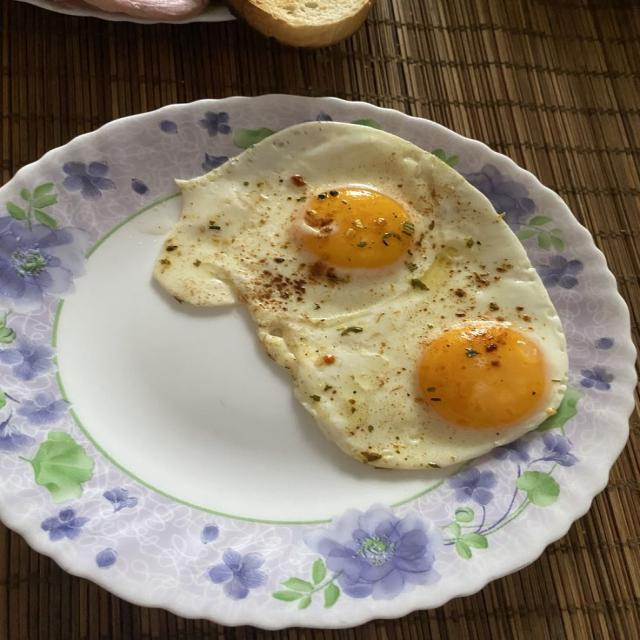fryed egg: (155, 122, 566, 468)
